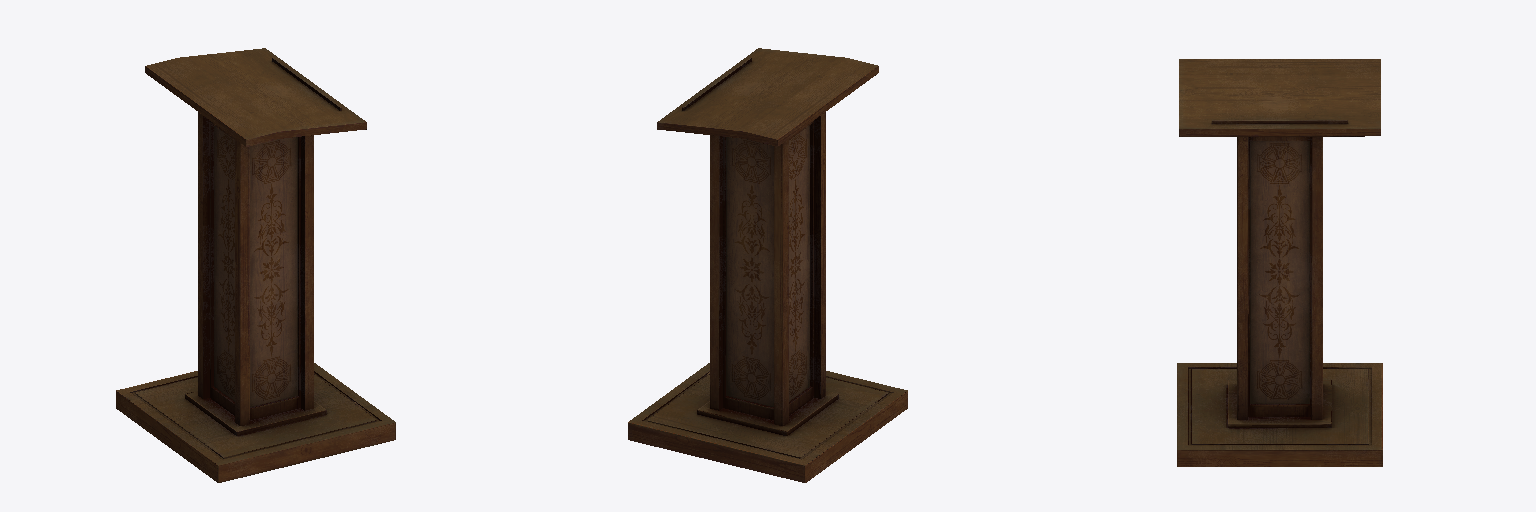
3 renders of one model, left to right at view 1: azimuth 30°, elevation 25°; view 2: azimuth 150°, elevation 25°; view 3: azimuth 270°, elevation 25°, orthographic.
Parts seen in each view (by area): view 1: obj1, obj2; view 2: obj1, obj2; view 3: obj1, obj2.
Boxes of the visible parts, <box> form: obj1: <box>116,48,395,482</box>; obj2: <box>214,126,297,406</box>; obj1: <box>628,48,907,482</box>; obj2: <box>726,126,809,406</box>; obj1: <box>1177,59,1382,466</box>; obj2: <box>1250,141,1309,403</box>.
Bounding box in the file's own units: 57.75 × 104 × 57.75.
2 materials, 2 textured.